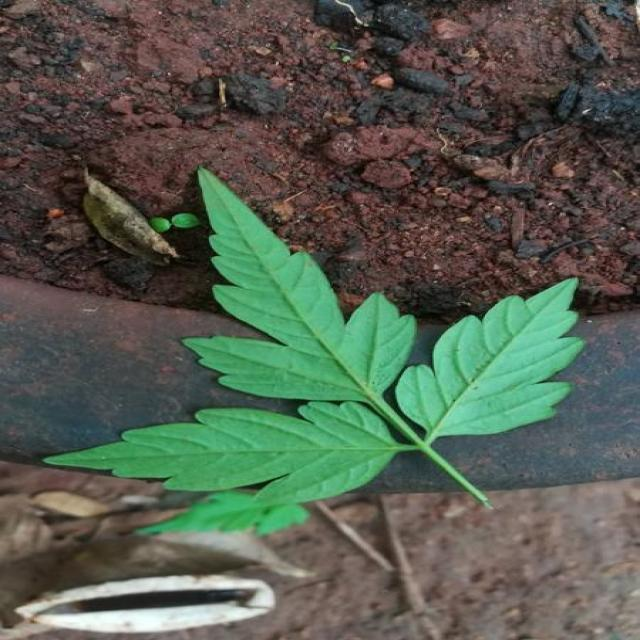balloon_Vine: (47, 170, 583, 504)
